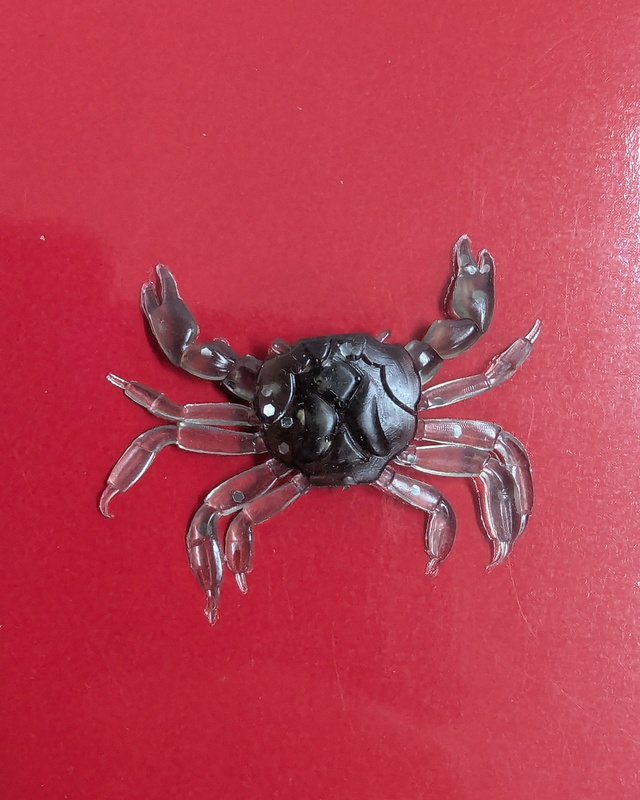crab1: (91, 235, 541, 632)
